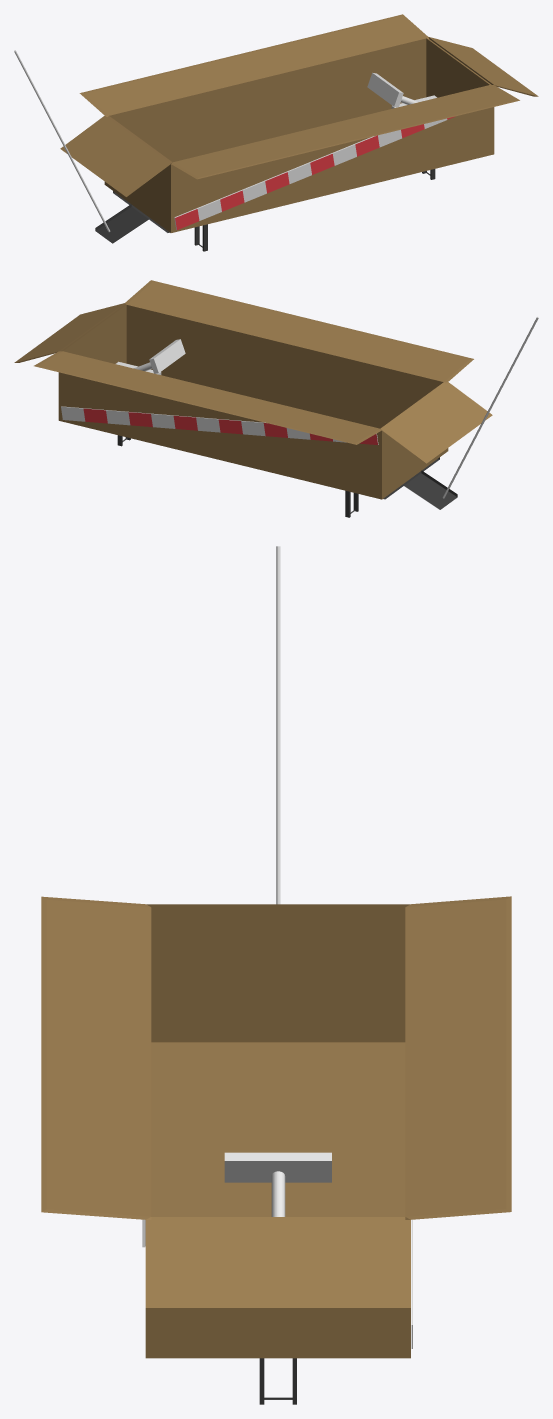
3 renders of one model, top to bottom at view 1: azimuth 30°, elevation 25°; view 2: azimuth 150°, elevation 25°; view 3: azimuth 270°, elevation 25°, orthographic. The views are drawn at different scales.
Parts seen in each view (by area): view 1: Cylinder.006; view 2: Cylinder.006; view 3: Cylinder.006.
Boxes of the visible parts, x1,y1,x2,y2 form: Cylinder.006: (14, 14, 538, 251); Cylinder.006: (14, 280, 538, 517); Cylinder.006: (41, 546, 511, 1404).
Size of the model in its own units: 14.88 by 6.55 by 6.16.
